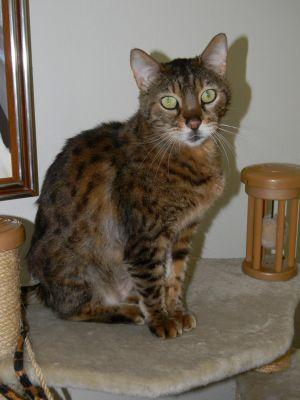bengal: (125, 30, 245, 156)
